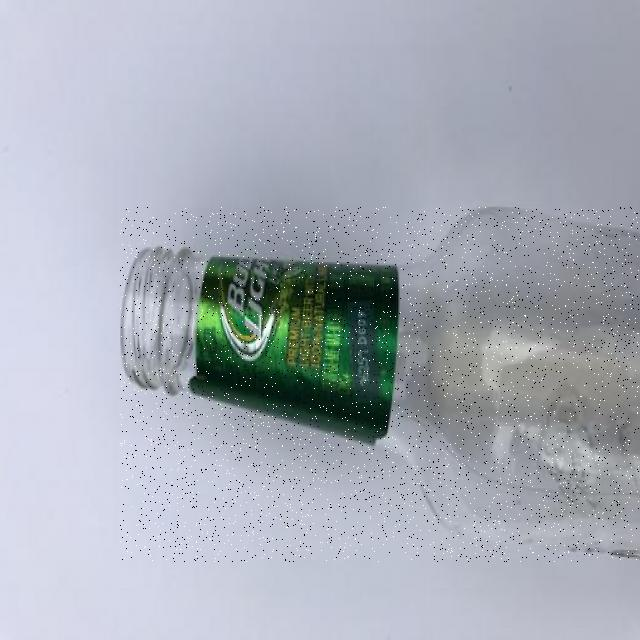glass: (121, 207, 639, 562)
